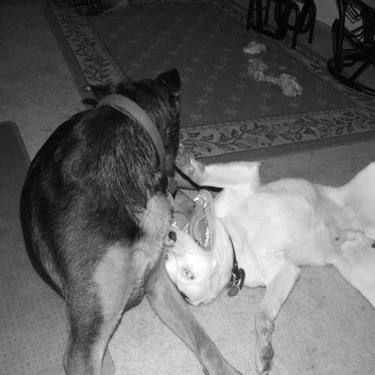dog: (2, 62, 256, 373), (157, 120, 372, 373)
